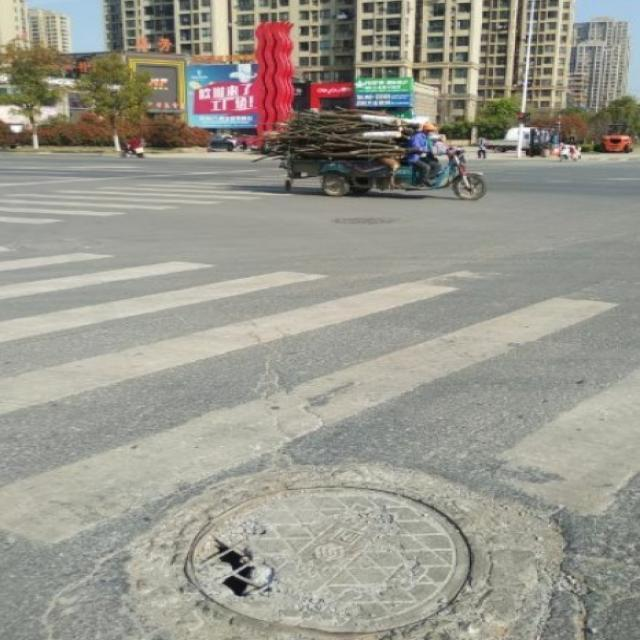Faulty: (166, 481, 500, 640)
